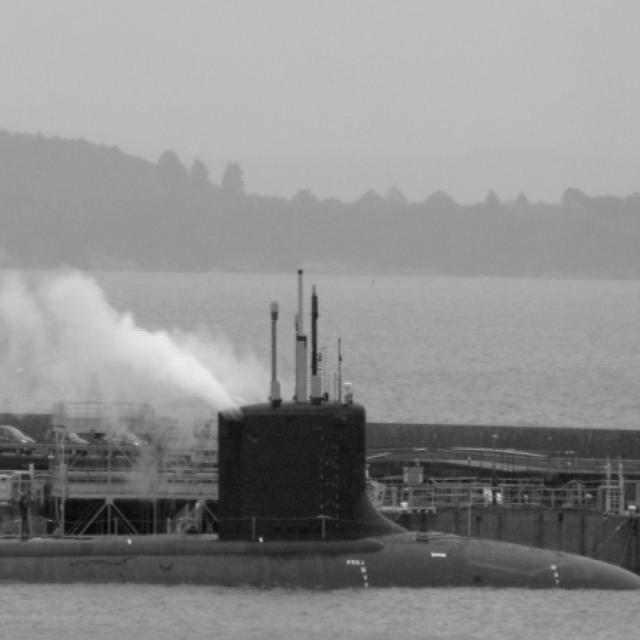submarine: (1, 404, 640, 595)
